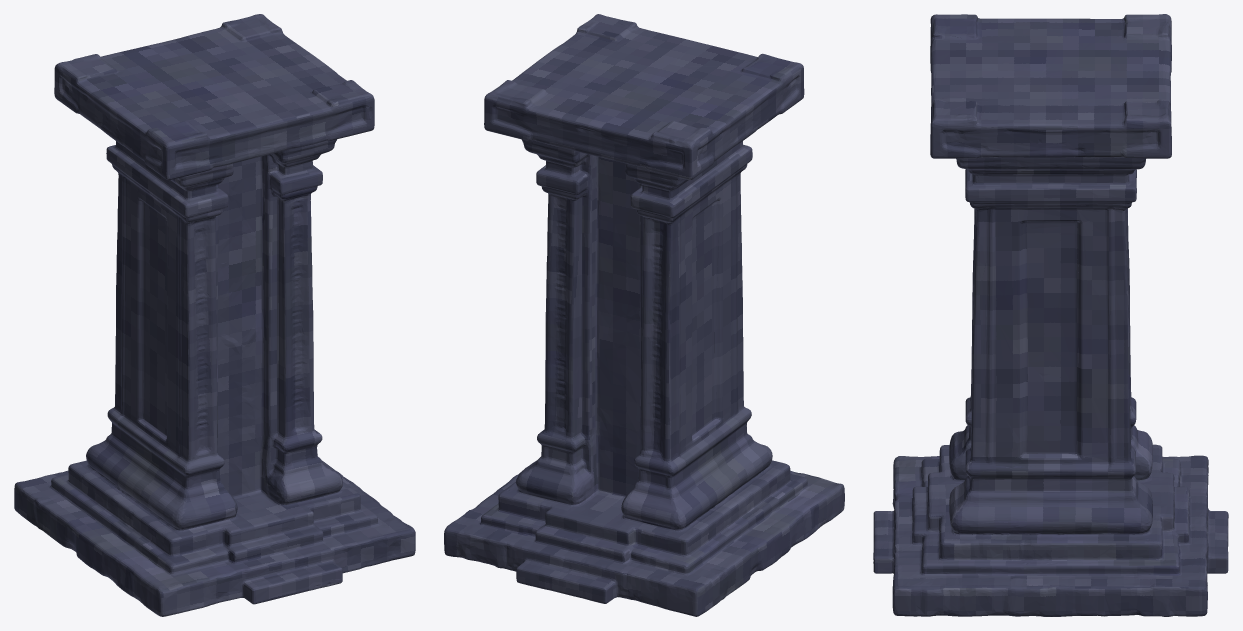
The model's file is weathered-monolith-pillar-generated-2026-04-19T23-30-13-924Z.high.glb.
3 renders of one model, left to right at view 1: azimuth 30°, elevation 25°; view 2: azimuth 150°, elevation 25°; view 3: azimuth 270°, elevation 25°, orthographic. The views are drawn at different scales.
Visible parts, largest first — view 1: temp_mesh.ply; view 2: temp_mesh.ply; view 3: temp_mesh.ply.
Boxes of the visible parts, x1,y1,x2,y2 form: temp_mesh.ply: [14, 14, 415, 616]; temp_mesh.ply: [444, 14, 844, 616]; temp_mesh.ply: [873, 14, 1228, 616].
Size of the model in its own units: 1.17 by 1.97 by 1.31.
1 material, 1 textured.
